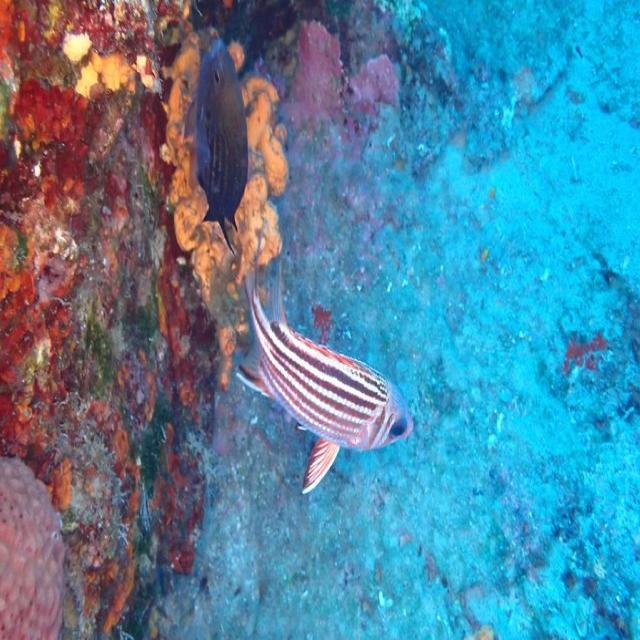Asker Baligi: (226, 216, 421, 507)
